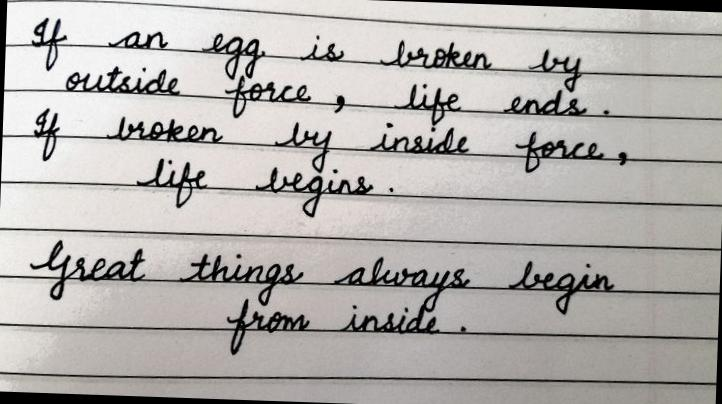text: (26, 236, 617, 324), (29, 106, 630, 185), (26, 15, 586, 93), (62, 61, 612, 133), (132, 154, 396, 224), (223, 296, 469, 367)
